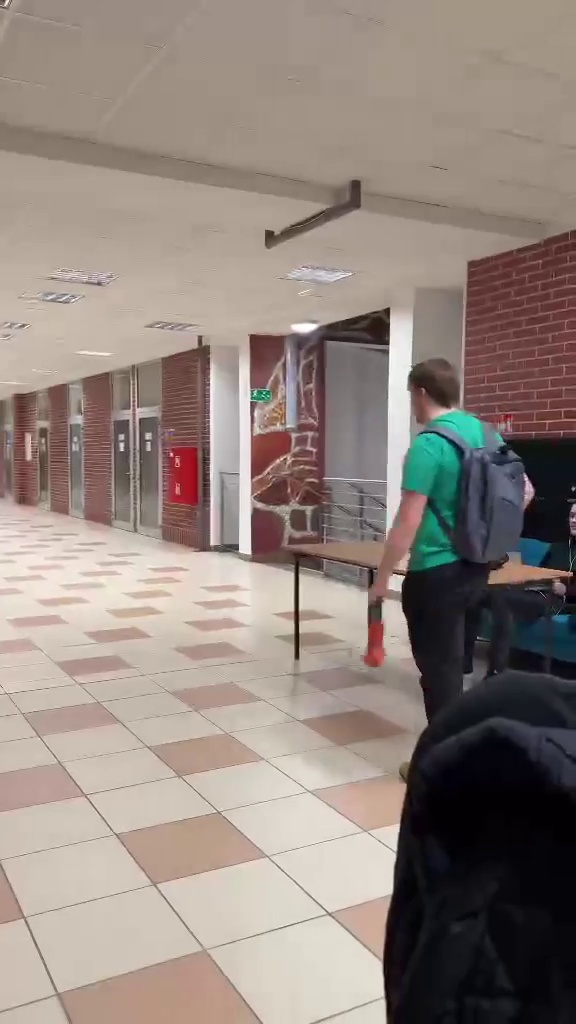no vest: (374, 351, 533, 711)
